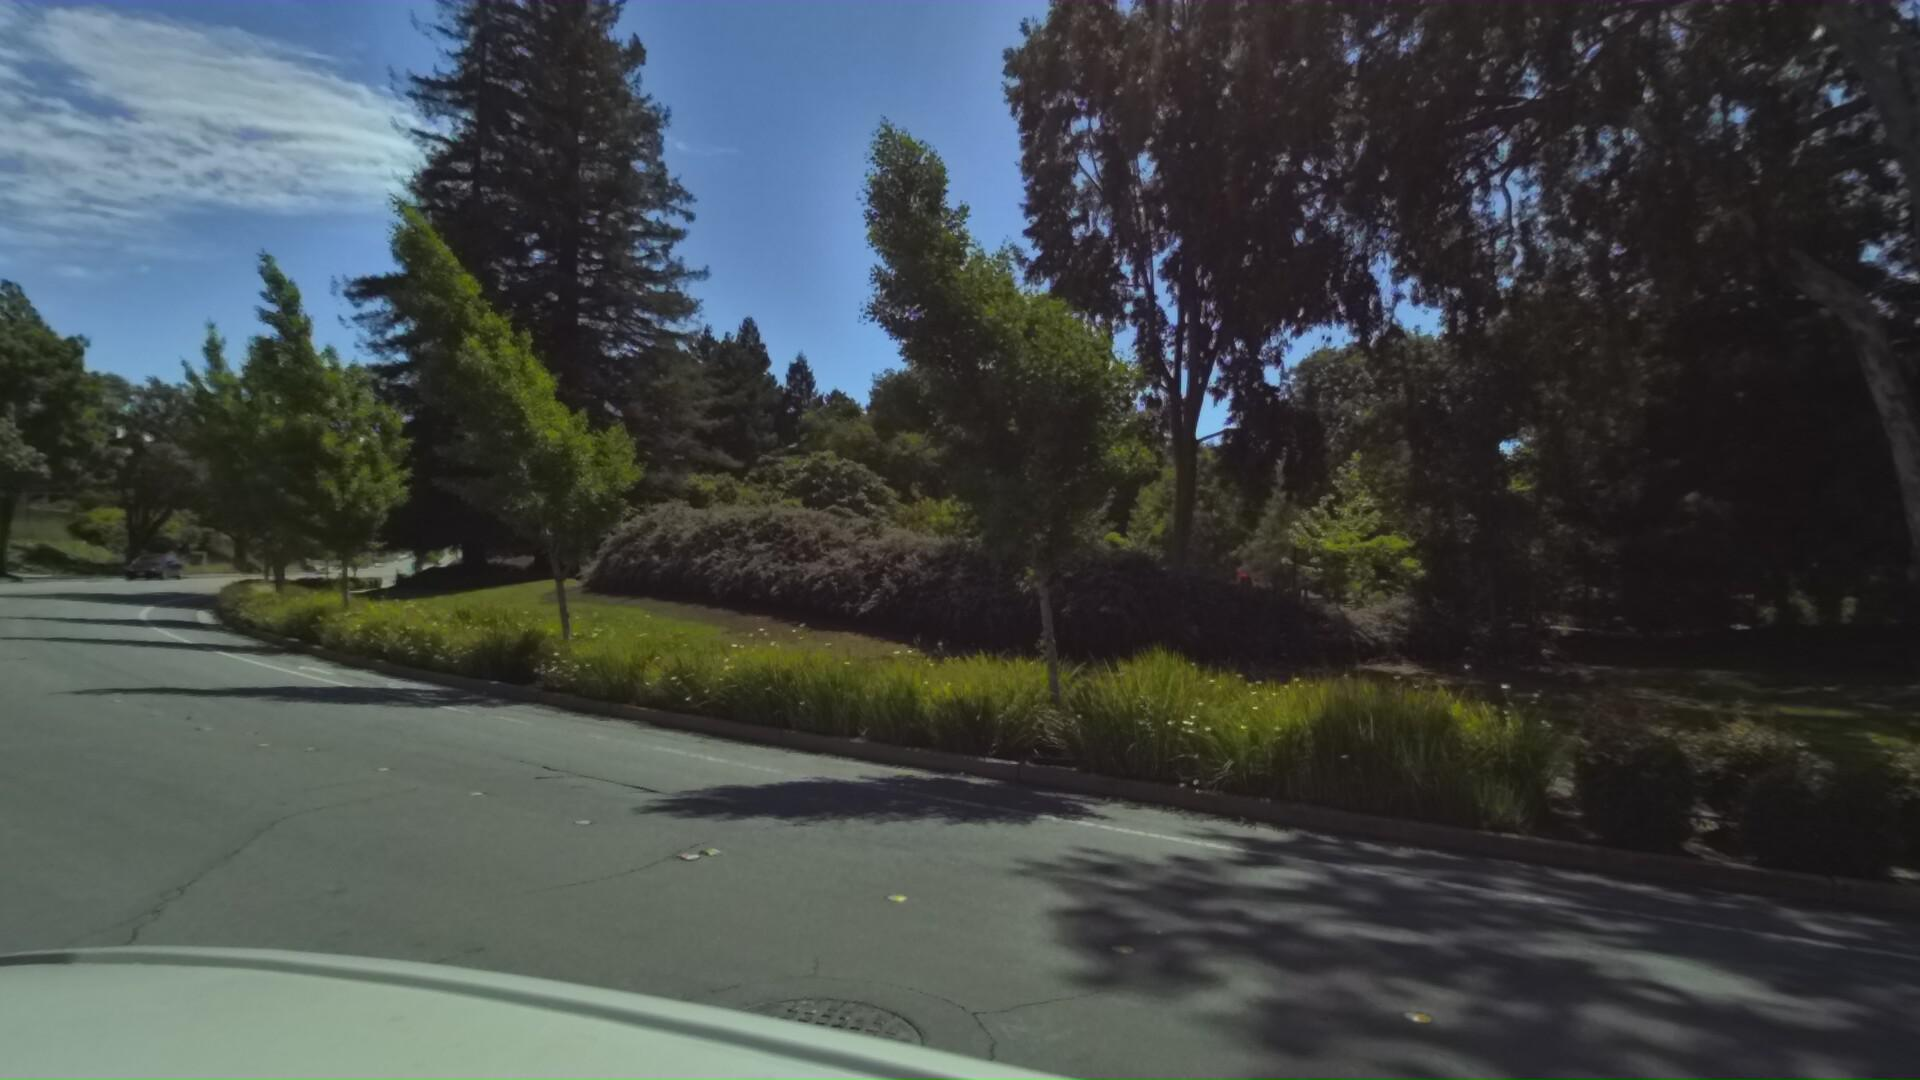car: (123, 549, 198, 580)
